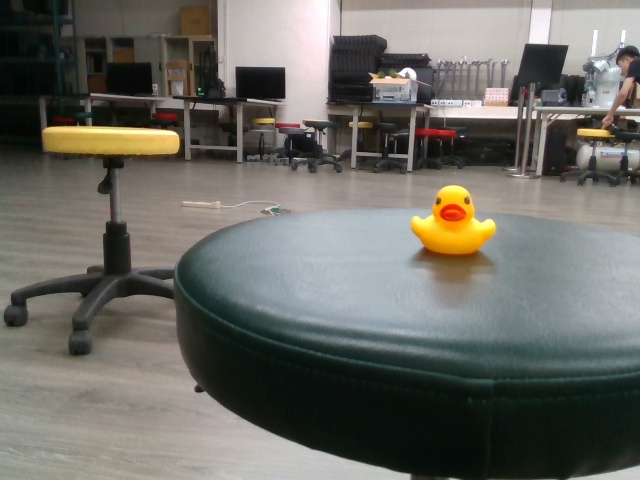duck: (406, 177, 500, 258)
